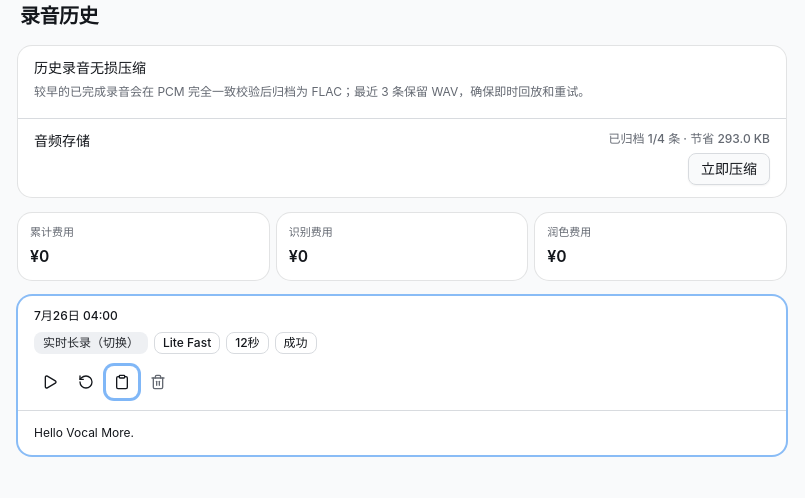
Test: cleans up and restores focus when the legacy clipboard throws
The width and height of the screenshot is (805, 498).
Click the button named "复制 Hello Vocal More." at [122, 382], box [106,366,138,398]
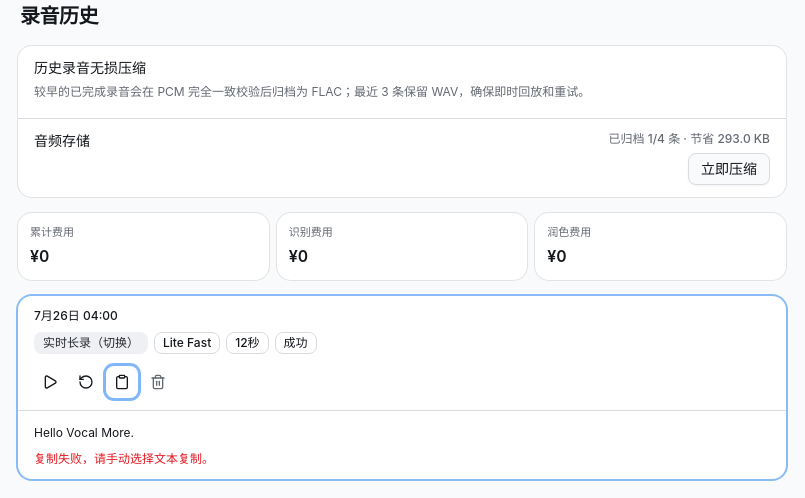
expect the message shows "复制失败": met, box [34,451,214,466]
